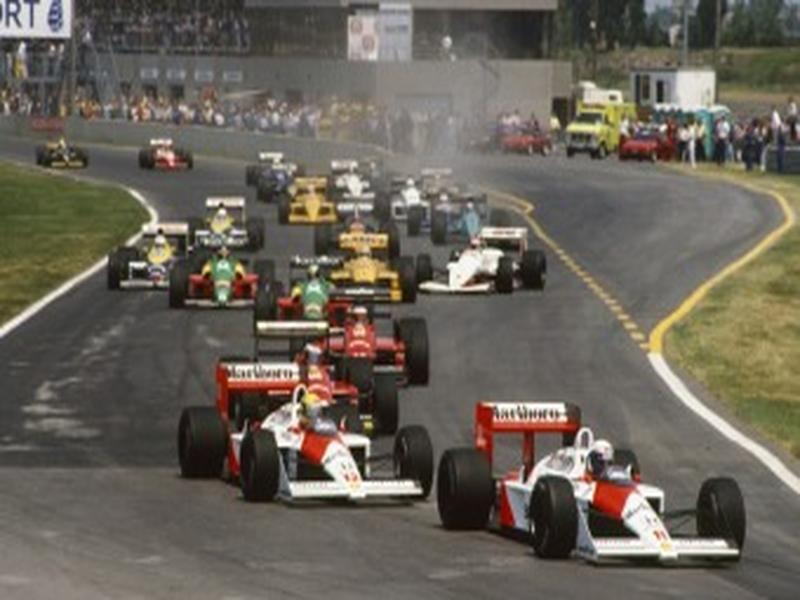f1: (436, 400, 748, 568), (168, 339, 467, 497), (279, 291, 446, 384), (163, 239, 302, 318), (422, 225, 548, 311), (101, 215, 214, 294), (315, 225, 424, 304)
